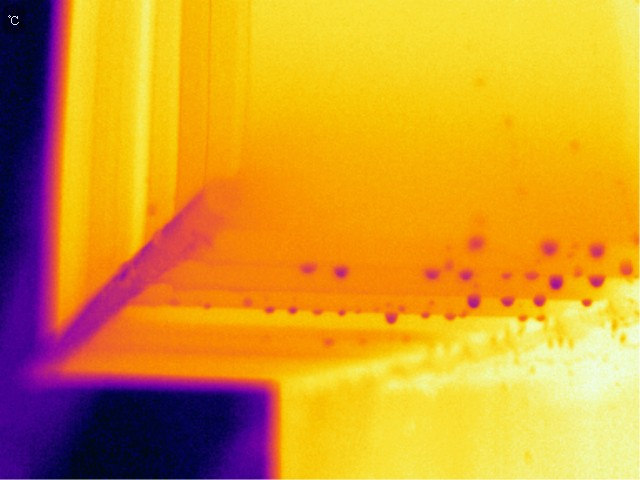Water: (470, 231, 495, 255), (458, 291, 488, 310), (543, 235, 563, 258), (298, 256, 316, 277), (575, 296, 601, 310), (587, 245, 607, 263), (424, 263, 443, 281), (546, 271, 563, 291), (330, 263, 351, 279), (589, 271, 608, 288), (438, 310, 456, 327), (381, 311, 400, 326), (531, 292, 549, 307), (457, 266, 474, 281), (498, 293, 514, 307), (417, 308, 431, 323), (500, 270, 518, 281), (263, 303, 276, 318), (311, 306, 326, 318), (334, 307, 350, 318), (284, 306, 303, 315)
